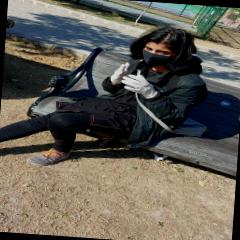gloved: (121, 74, 155, 94), (110, 60, 129, 85)
